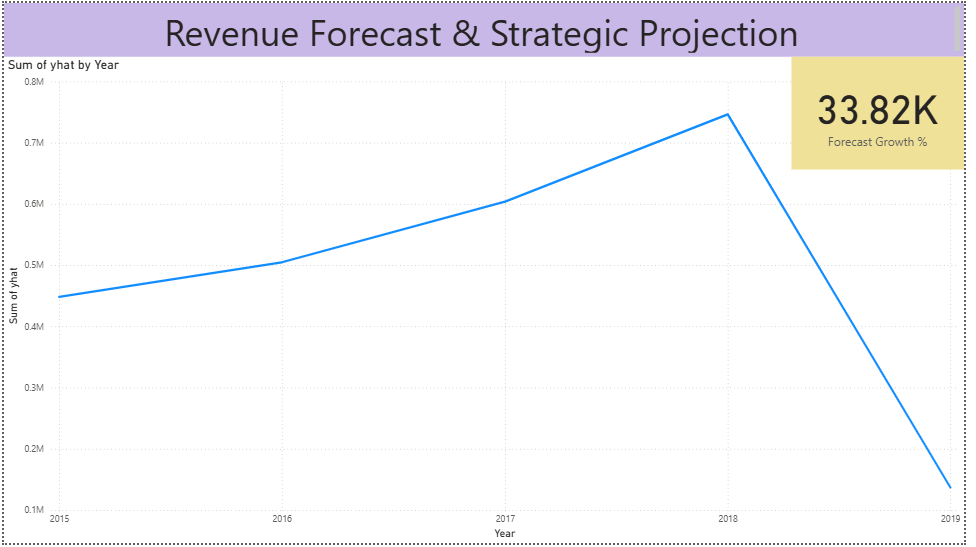

Layout of this report page (visuals, bound fields, positions):
{"tool":"powerbi","page":{"name":"Page 4","canvas":[1280,720],"ordinal":3},"visuals":[{"type":"textbox","box":[0,0,1280,71.7],"z":0},{"type":"lineChart","fields":{"Category":["revenue_forecast.ds.Variation.Date Hierarchy.Year","revenue_forecast.ds.Variation.Date Hierarchy.Quarter","revenue_forecast.ds.Variation.Date Hierarchy.Month","revenue_forecast.ds.Variation.Date Hierarchy.Day"],"Y":["Sum(revenue_forecast.yhat)"]},"box":[0,71.7,1280,648.3],"z":1000},{"type":"card","fields":{"Values":["revenue_forecast.Forecast Growth %"]},"box":[1050,71.7,230,150],"z":2000}]}

Visuals, with their boxes in screenshot pixels (x1, y1, x2, y2), scaled from the page's 1280x720 canvas onto the 976x547 screenshot:
textbox: l=0, t=0, r=975, b=54
lineChart - revenue_forecast.ds.Variation.Date Hierarchy.Year x revenue_forecast.ds.Variation.Date Hierarchy.Quarter: l=0, t=54, r=975, b=546
card - revenue_forecast.Forecast Growth %: l=801, t=54, r=975, b=168
